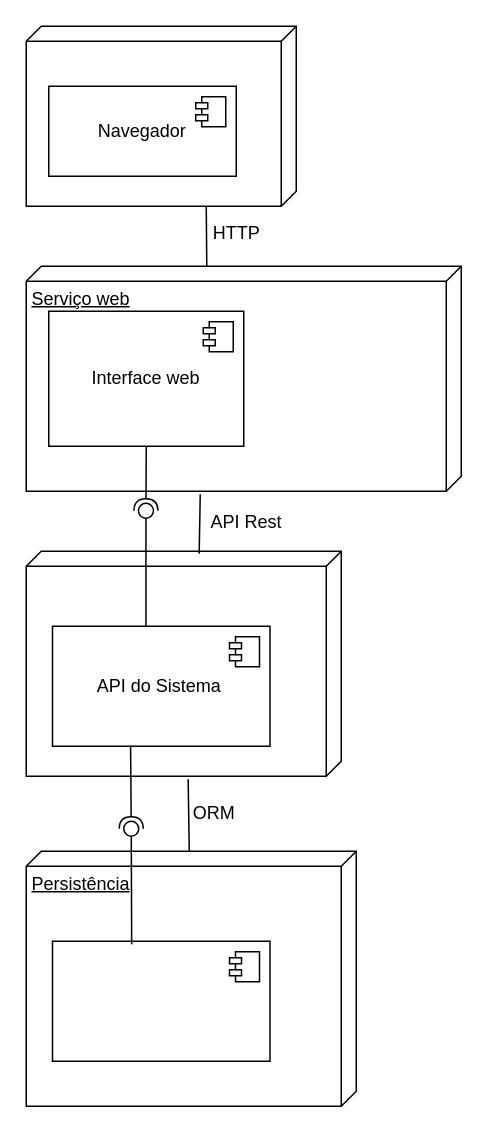
This 488x1133 diagram has some shape labels left out. Each missing label, with the box of its shape:
App web: (25, 25, 296, 206)
Servidor: (25, 550, 341, 776)
SGBD: (51, 940, 270, 1061)
